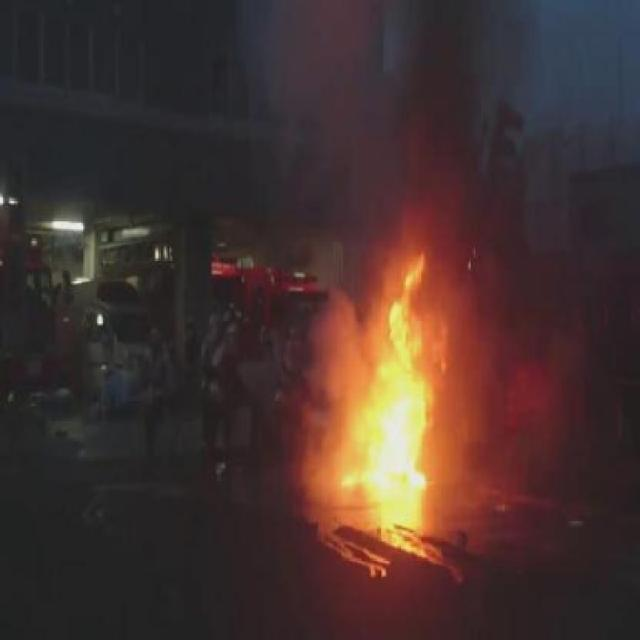Fire: (359, 241, 476, 376), (322, 316, 372, 530), (368, 378, 428, 493)
Smoke: (404, 5, 481, 242), (428, 380, 532, 518)
